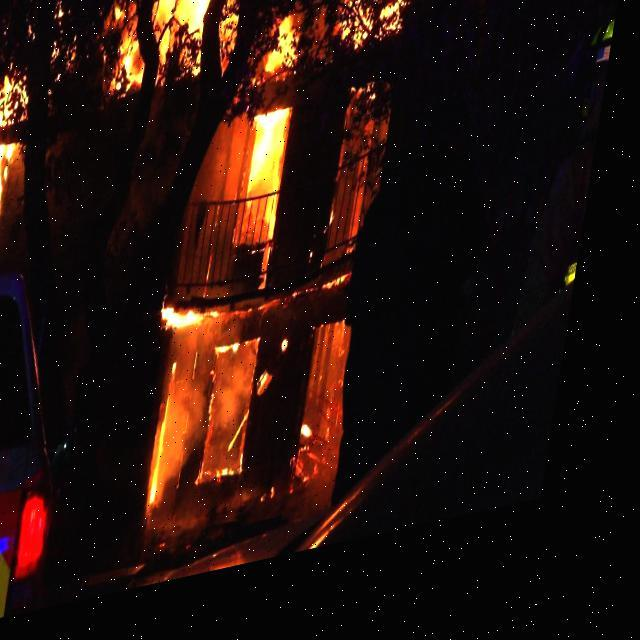Fire: (51, 0, 417, 545)
